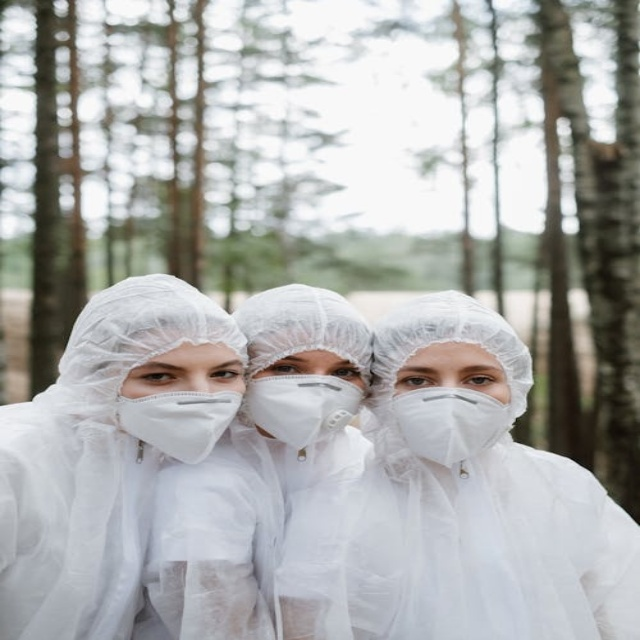Mascara: (114, 389, 245, 465), (390, 389, 512, 468), (244, 375, 365, 453)
Sin_gafas: (397, 362, 504, 387), (129, 360, 238, 382), (265, 354, 358, 379)
